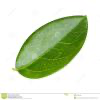Blueberry leaf: (10, 12, 91, 81)
